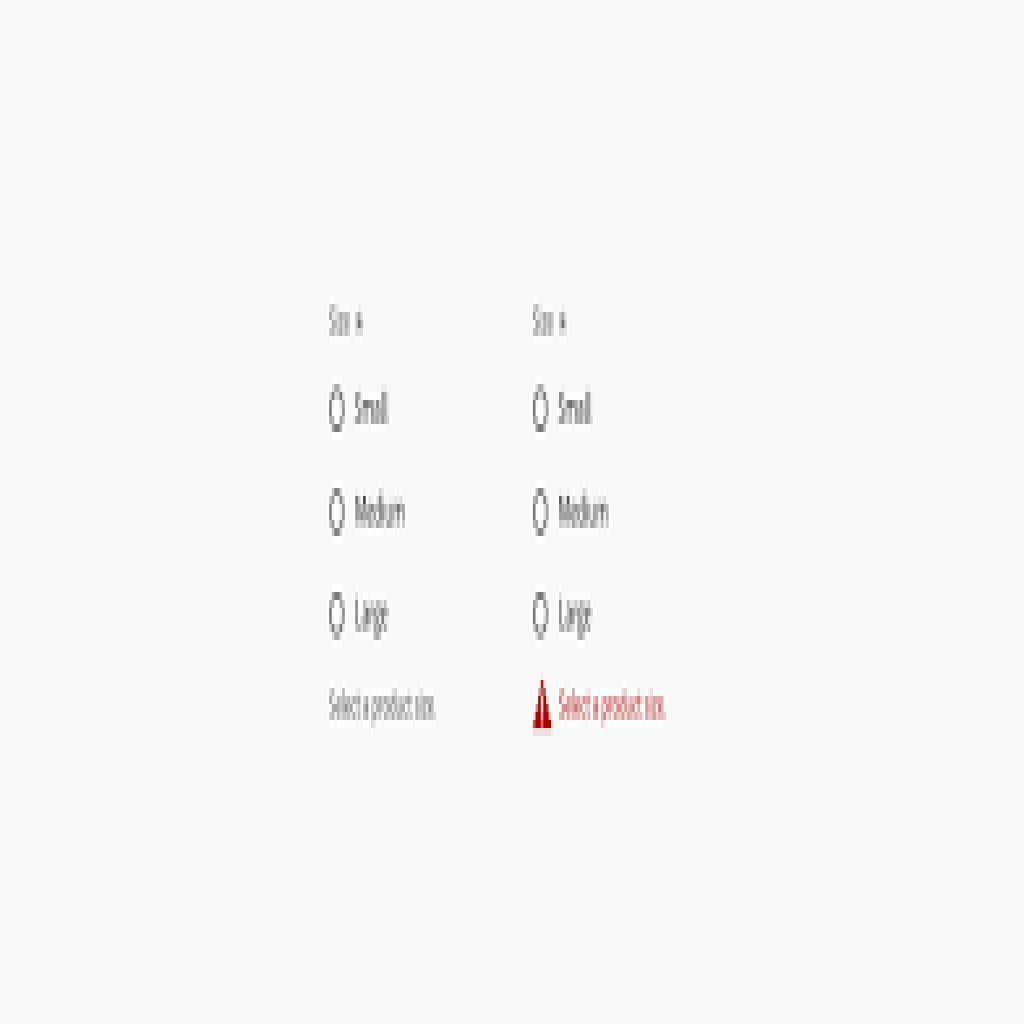icon: (527, 675, 559, 741)
radio: (323, 480, 355, 538), (327, 374, 350, 442), (529, 482, 555, 538), (526, 586, 552, 640), (529, 383, 554, 439), (327, 587, 353, 640)
